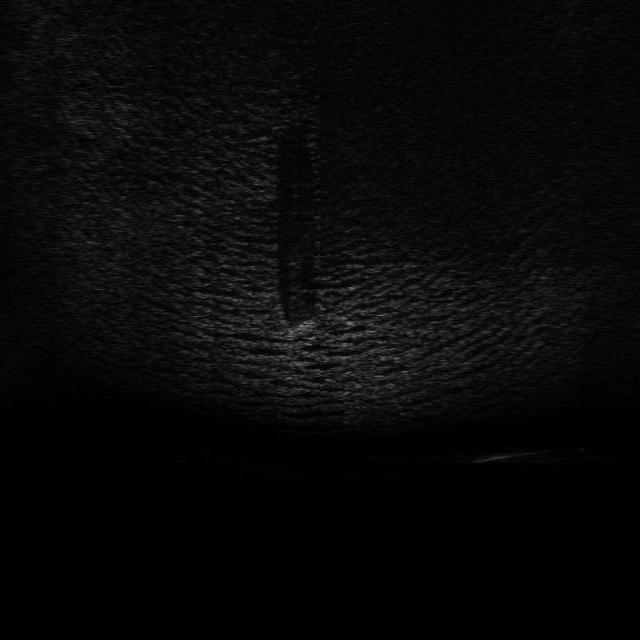cube: (282, 315, 321, 341)
